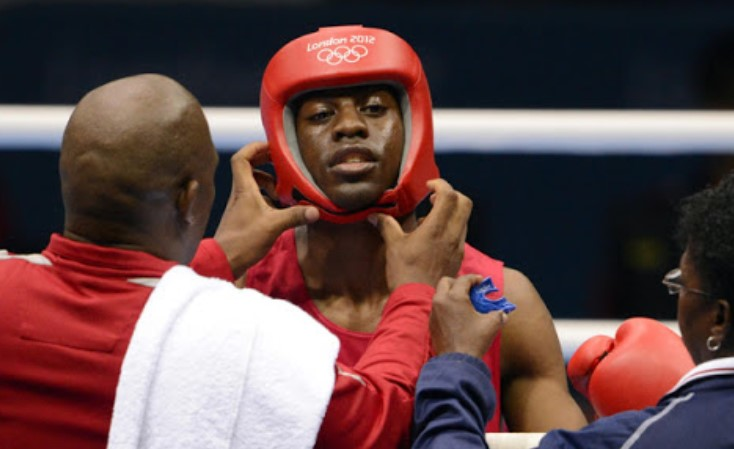face_no_mask: (60, 74, 220, 268), (292, 66, 414, 214)
